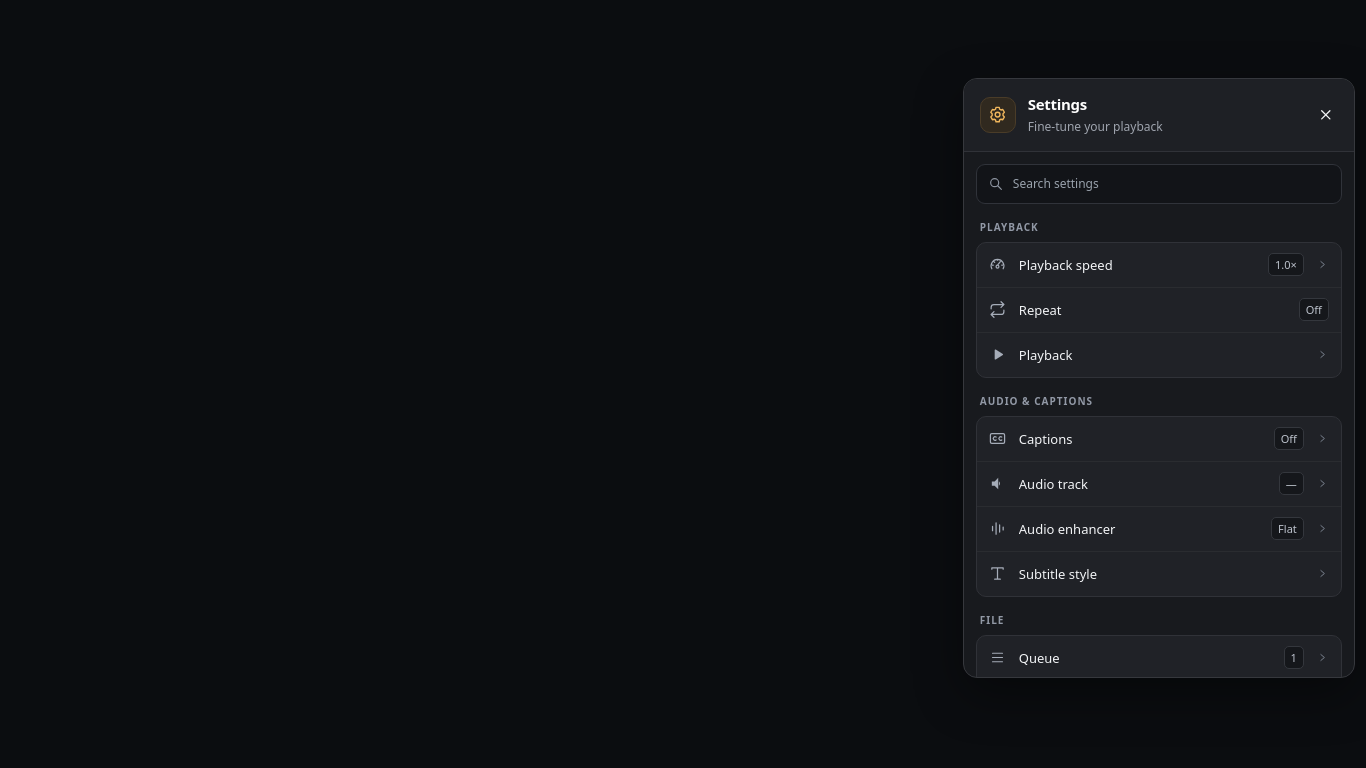
SettingsPopup › hides queue item actions behind a single overflow menu
Click the button "Queue 1" at [1039, 658], box [977,636,1341,680]
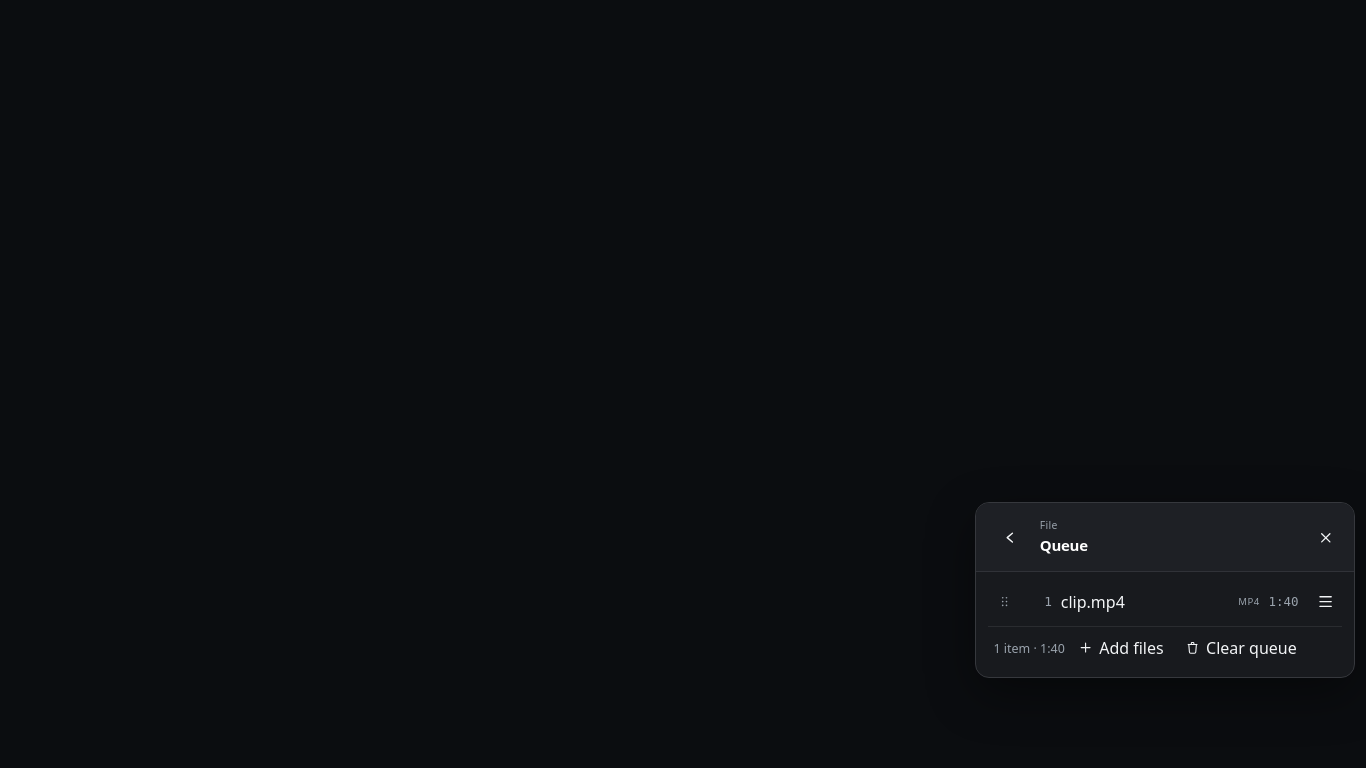
Expected: the number of buttons named "Actions for" is 1
Click the button named "Actions for" at [1326, 602], box [1310,586,1342,618]
(page scrolled)
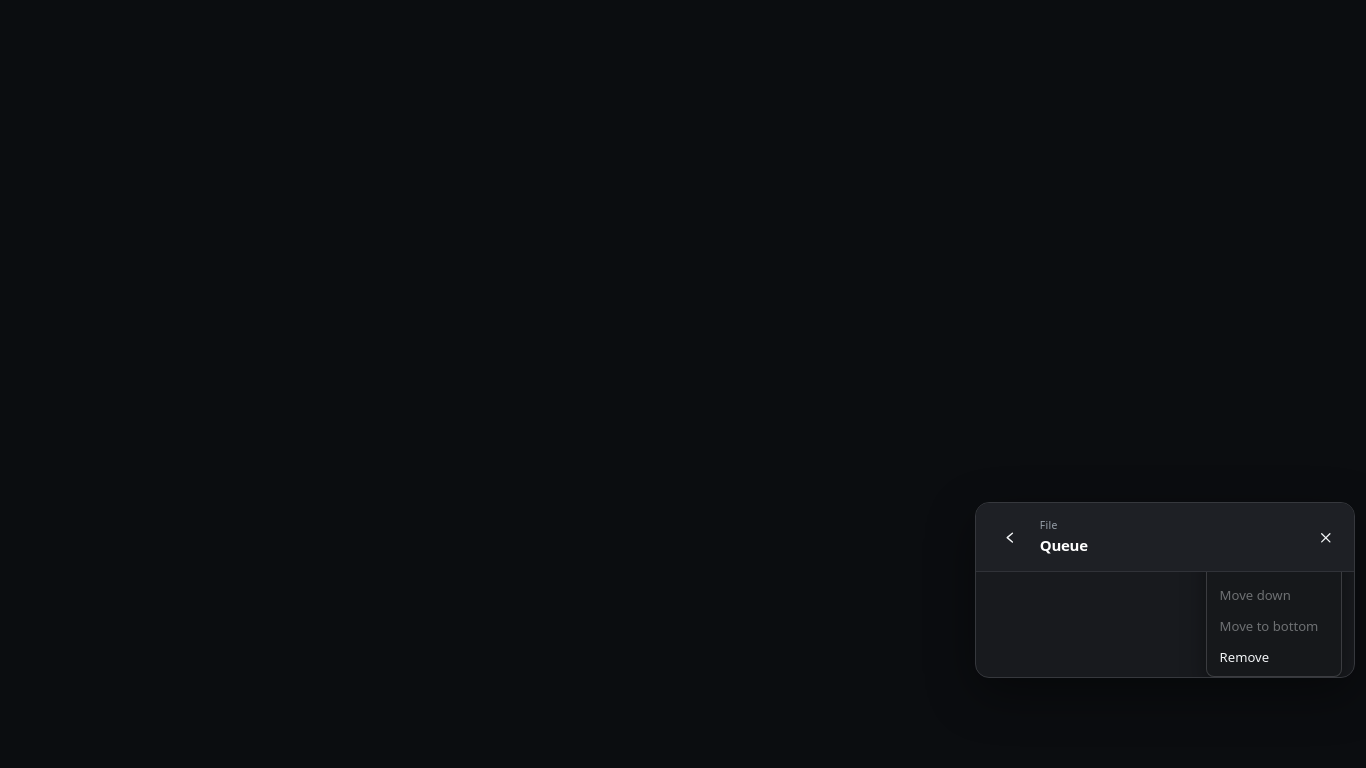
Expected: the menu item "Move down" is shown, [1211,580,1337,611]
Expected: the menu item "Move to bottom" is shown, [1211,611,1337,641]
Expected: the menu item "Remove" is shown, [1211,641,1337,672]
